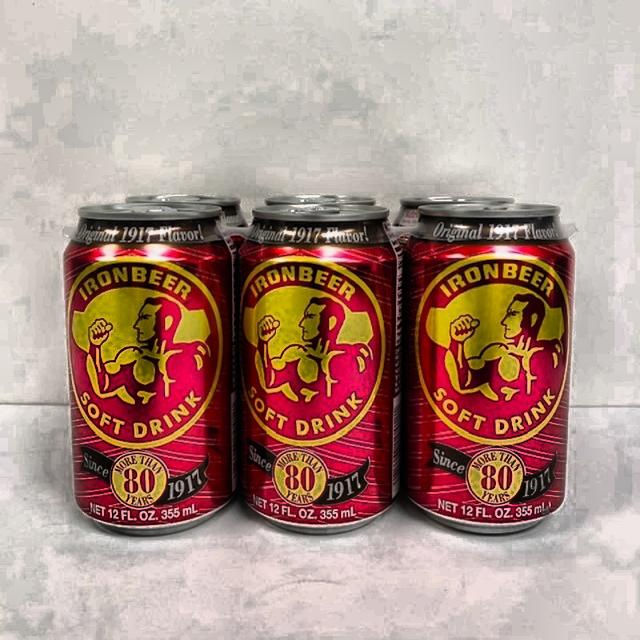can: (400, 198, 584, 539), (61, 197, 238, 545), (232, 201, 406, 539)
